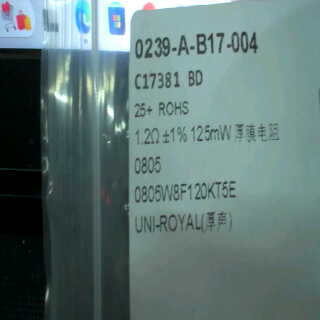1.2R: (129, 126, 160, 178)
